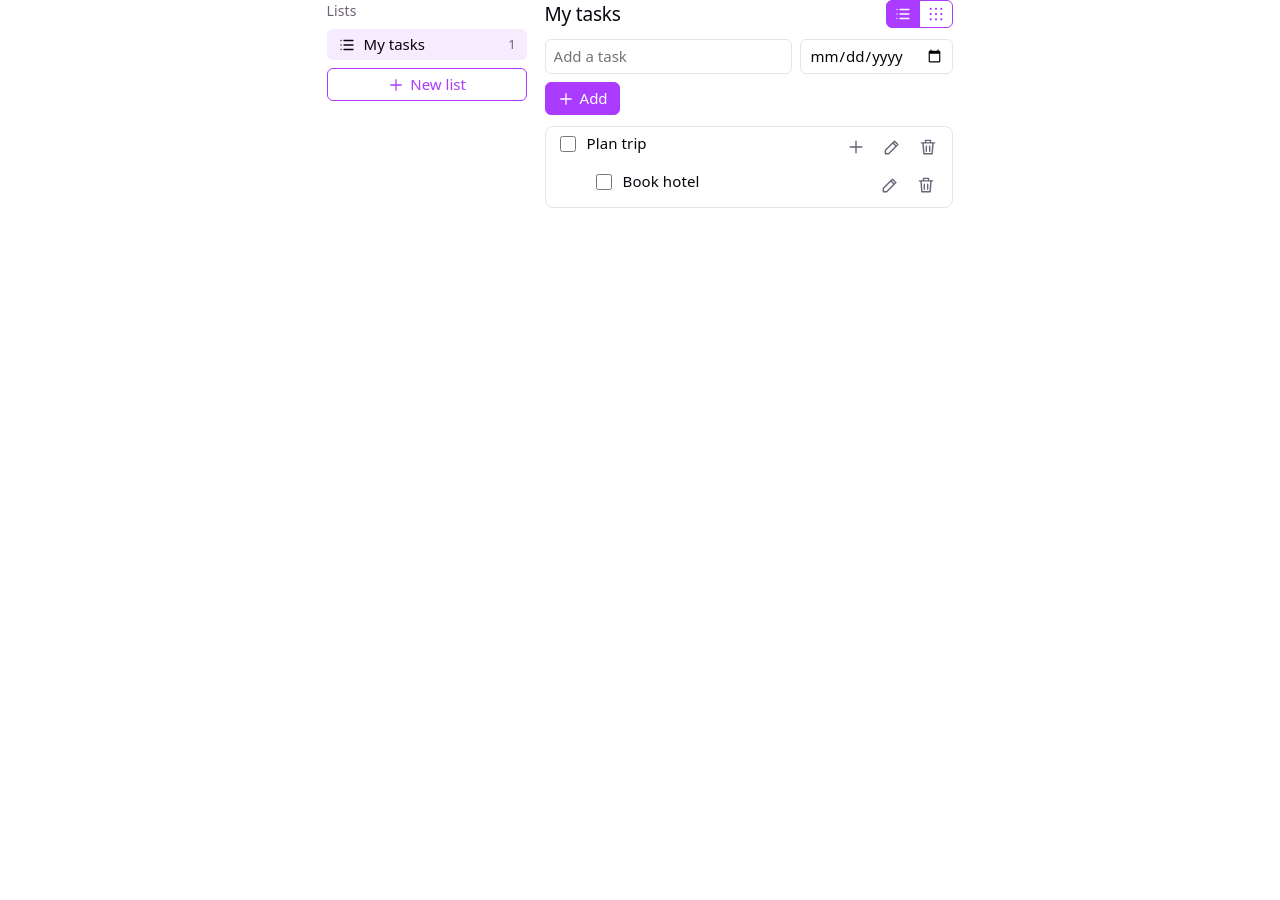
it: Tasks: subtasks and repeats › shows subtasks under their task and adds one
The width and height of the screenshot is (1280, 900).
Expected: the text "Book hotel" is shown, [623, 171, 700, 191]
Click the button named "Add a subtask to “Plan trip”" at point(856, 147), box [842, 133, 870, 161]
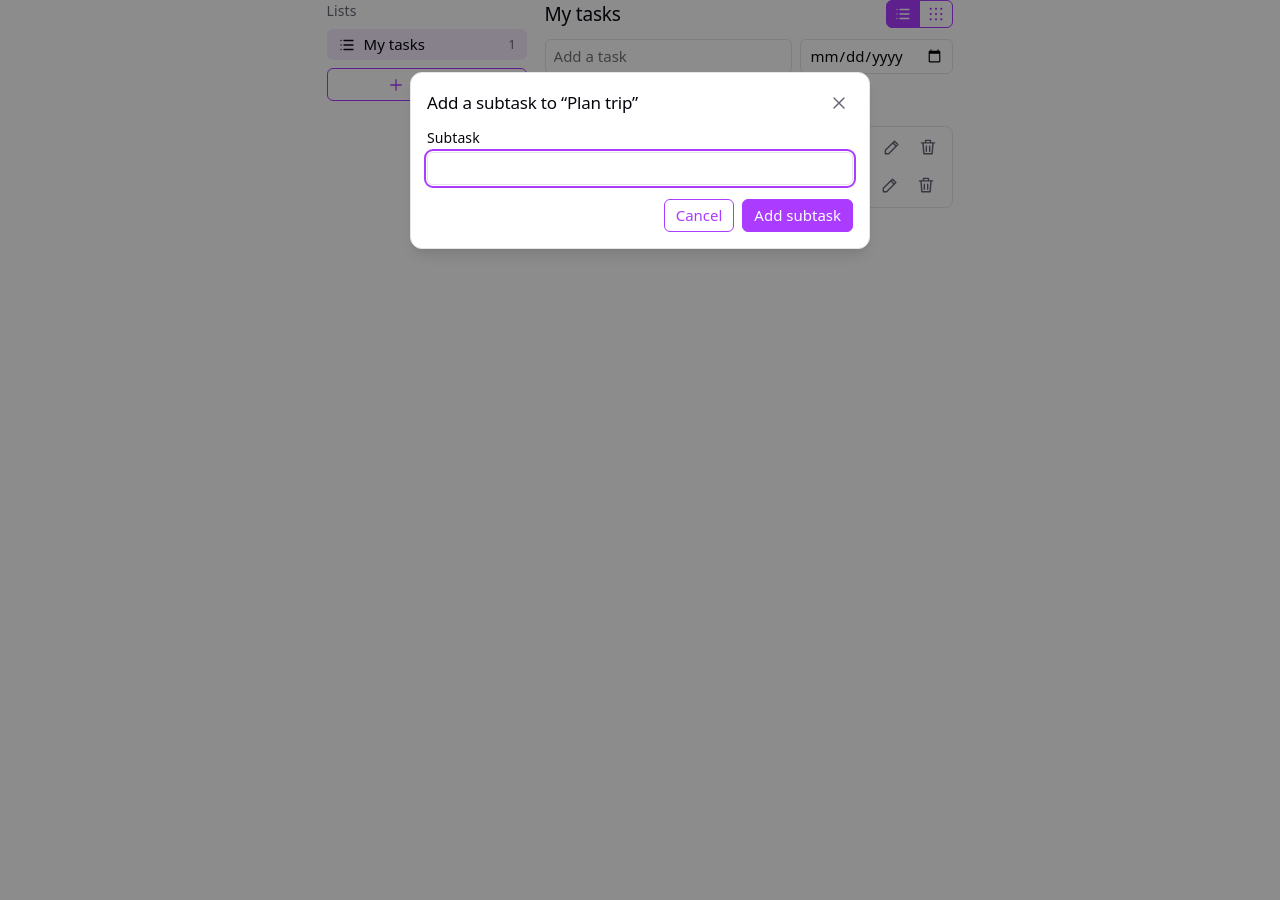
Type "Rent a car" into the field labelled "Subtask" at point(640, 168), box [427, 152, 853, 185]
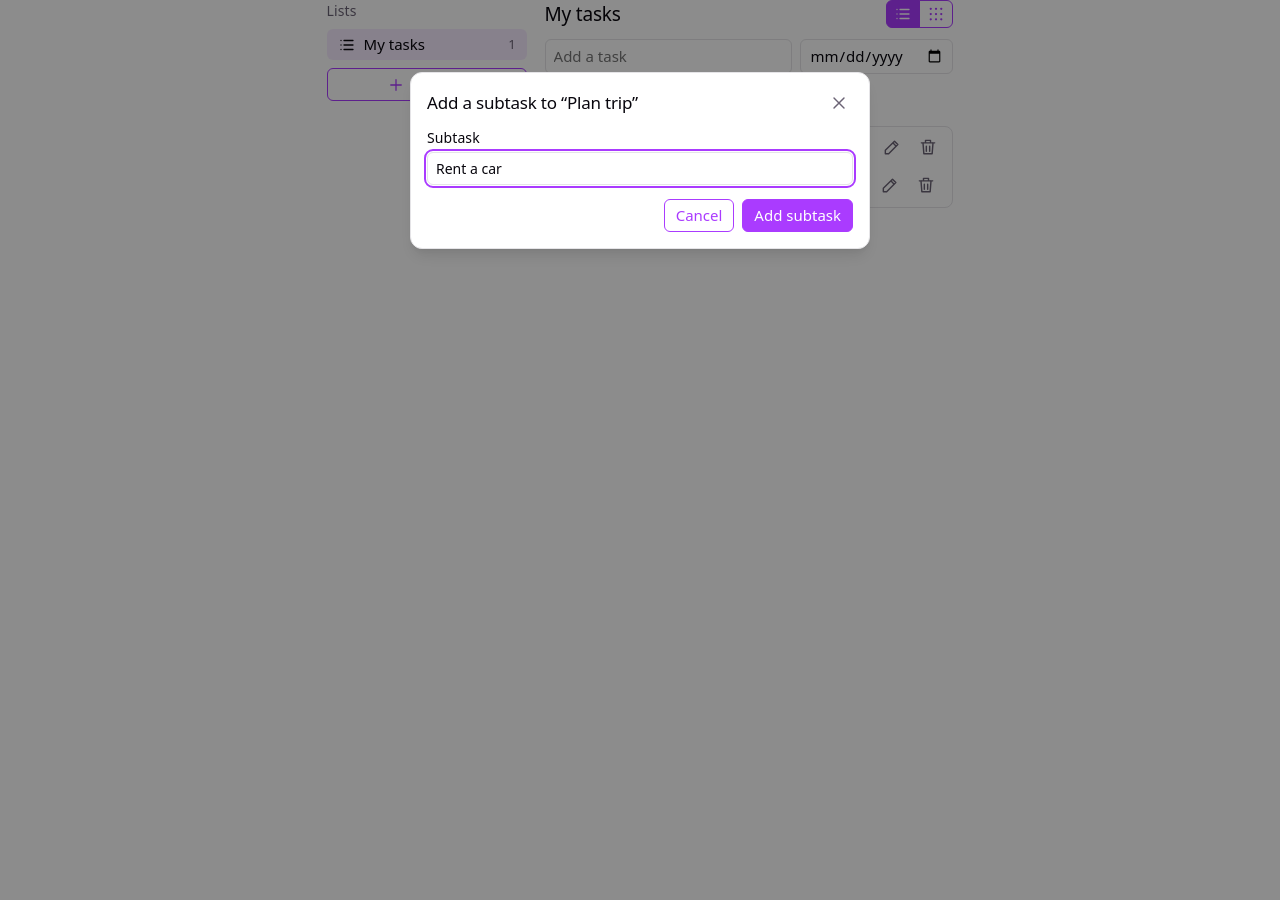
Click the button "Add subtask" at point(798, 216), box [742, 199, 853, 232]
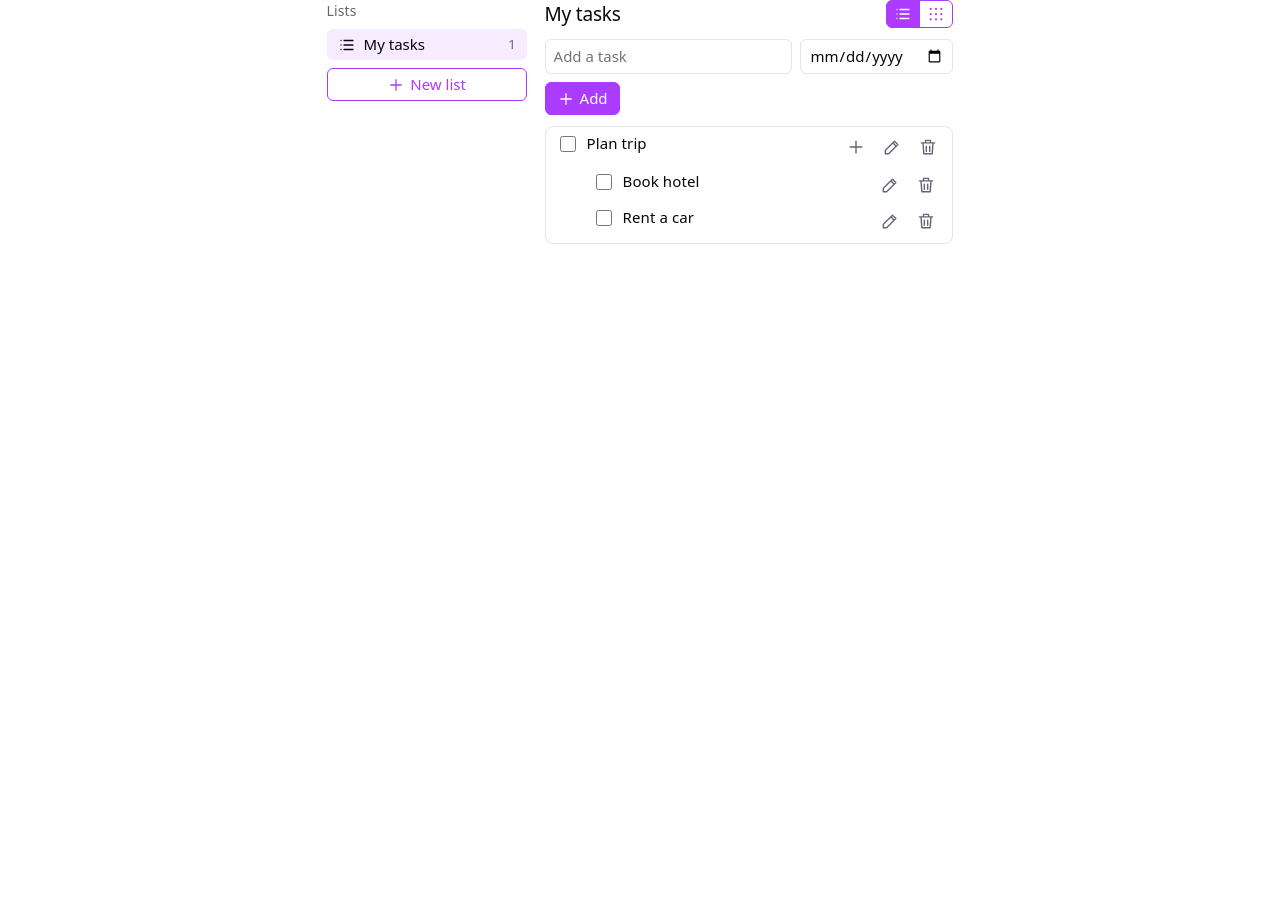
Expected: the text "Rent a car" is shown, [623, 207, 694, 227]
